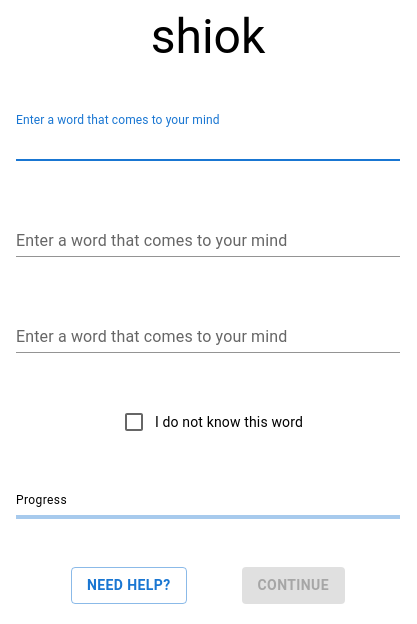
Test case: QuizPage › enables Continue when at least one meaningful response is provided
The width and height of the screenshot is (417, 624).
Type "kopi" into the 1st field labelled "Enter a word that comes to your mind" at x=208, y=145, box [16,129,400,161]
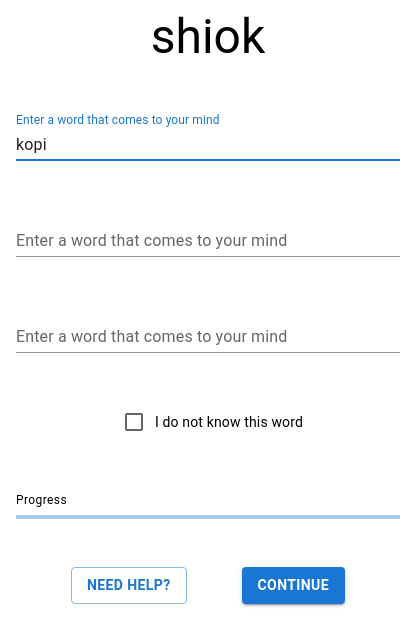
Result: the button "continue" is enabled at [242,567,345,604]
